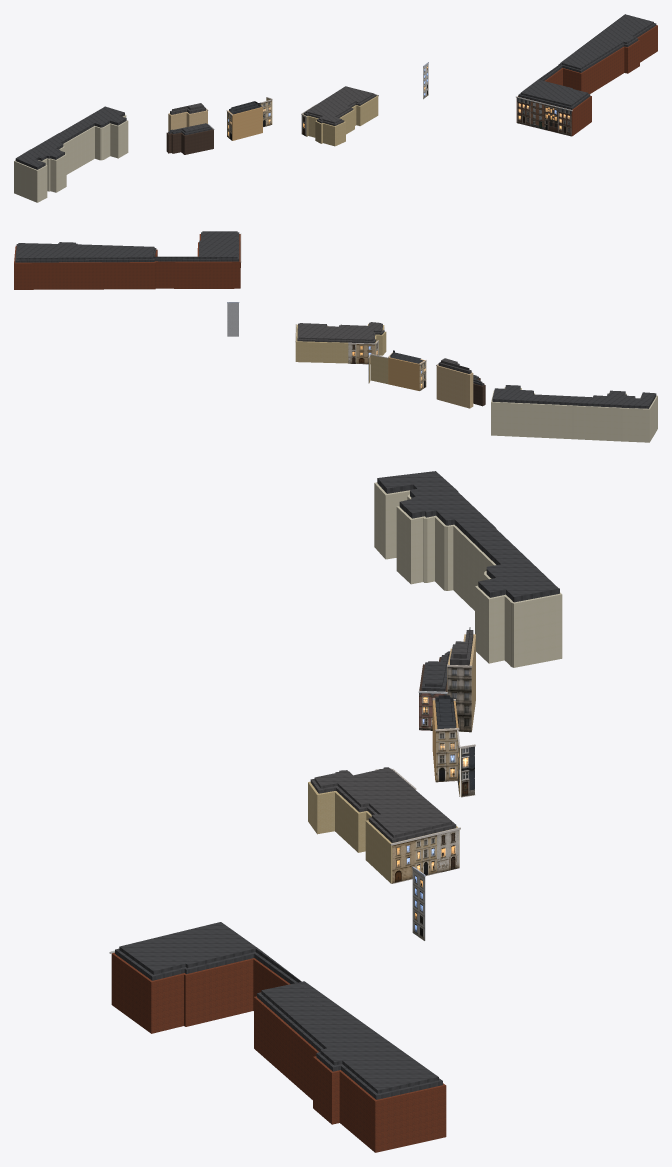
3 views of the same model, one above another, from view 1: azimuth 30°, elevation 25°; view 2: azimuth 150°, elevation 25°; view 3: azimuth 270°, elevation 25° (orthographic). The views are drawn at different scales.
Parts seen in each view (by area): view 1: bldg_231689700, bldg_511535391, bldg_511535391_roof_b, bldg_231689700_roof_a, bldg_511535320, bldg_511535391_facade0, bldg_511535320_roof_b, bldg_512825198, bldg_512825208, bldg_511535391_roof_a, bldg_512825197; view 2: bldg_511535391, bldg_231689700, bldg_511535391_roof_b, bldg_231689700_roof_a, bldg_511535320, bldg_512825197, bldg_511535320_roof_b, bldg_511535391_roof_a, bldg_512825208, bldg_512825207_facade0, bldg_511535364_facade1, bldg_511535320_facade2 (+1 smaller); view 3: bldg_511535391, bldg_231689700, bldg_511535391_roof_b, bldg_231689700_roof_a, bldg_511535320_roof_b, bldg_511535320, bldg_511535320_facade0, bldg_511535391_roof_a, bldg_512825197_facade0, bldg_512825208_facade0, bldg_511535320_roof_a.
Part boxes in pixels (box(x1,y1,x2,y2)): bldg_231689700: box(14, 114, 128, 202); bldg_511535391: box(516, 25, 657, 136); bldg_511535391_roof_b: box(520, 14, 653, 106); bldg_231689700_roof_a: box(15, 106, 126, 169); bldg_511535320: box(303, 96, 378, 146); bldg_511535391_facade0: box(516, 96, 572, 136); bldg_511535320_roof_b: box(305, 86, 374, 123); bldg_512825198: box(166, 129, 213, 154); bldg_512825208: box(228, 106, 262, 140); bldg_511535391_roof_a: box(518, 23, 656, 109); bldg_512825197: box(168, 110, 207, 131); bldg_511535391: box(14, 234, 240, 289); bldg_231689700: box(491, 387, 657, 442); bldg_511535391_roof_b: box(16, 231, 237, 259); bldg_231689700_roof_a: box(492, 385, 656, 408); bldg_511535320: box(296, 323, 386, 363); bldg_512825197: box(437, 365, 473, 408); bldg_511535320_roof_b: box(299, 322, 382, 340); bldg_511535391_roof_a: box(15, 232, 239, 262); bldg_512825208: box(388, 356, 424, 390); bldg_512825207_facade0: box(370, 354, 388, 383); bldg_511535364_facade1: box(227, 302, 239, 336); bldg_511535320_facade2: box(356, 343, 375, 364); bldg_511535391: box(111, 952, 446, 1152); bldg_231689700: box(374, 482, 562, 667); bldg_511535391_roof_b: box(119, 922, 438, 1093); bldg_231689700_roof_a: box(377, 471, 559, 602); bldg_511535320_roof_b: box(314, 767, 452, 837); bldg_511535320: box(308, 781, 459, 883); bldg_511535320_facade0: box(390, 827, 460, 883); bldg_511535391_roof_a: box(115, 948, 442, 1099); bldg_512825197_facade0: box(447, 664, 472, 732); bldg_512825208_facade0: box(435, 728, 459, 782); bldg_511535320_roof_a: box(310, 768, 456, 842).
Size of the model in its own units: 327 by 18.58 by 102.
Materials: 23 (11 with a texture image).
